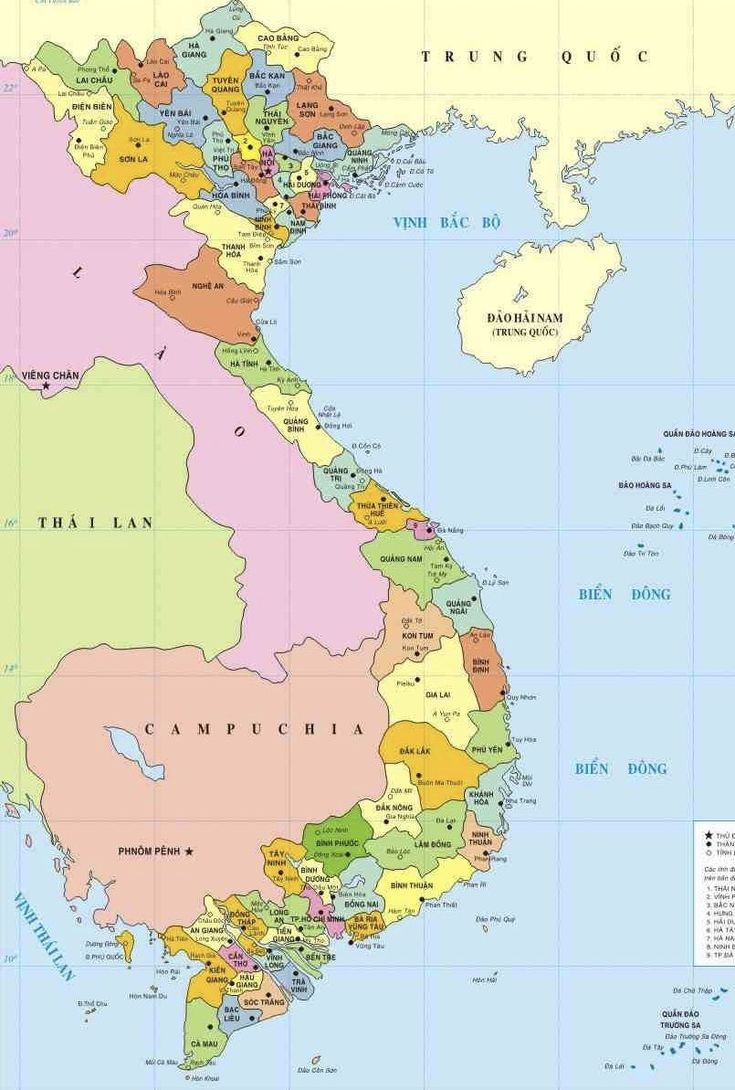Island: (606, 423, 735, 558), (601, 975, 725, 1085)
